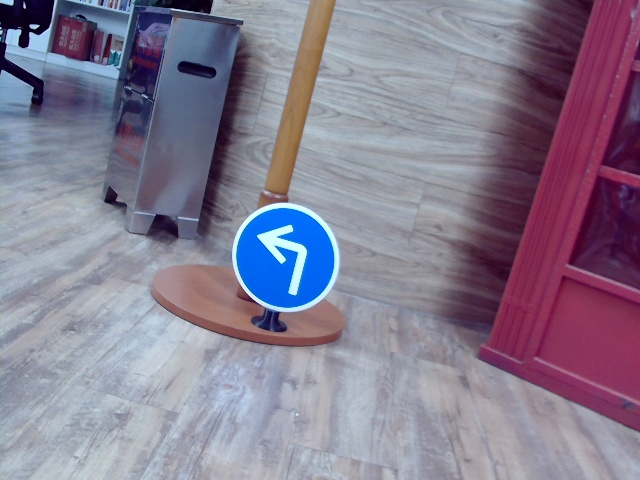turn_left: (257, 217, 313, 295)
